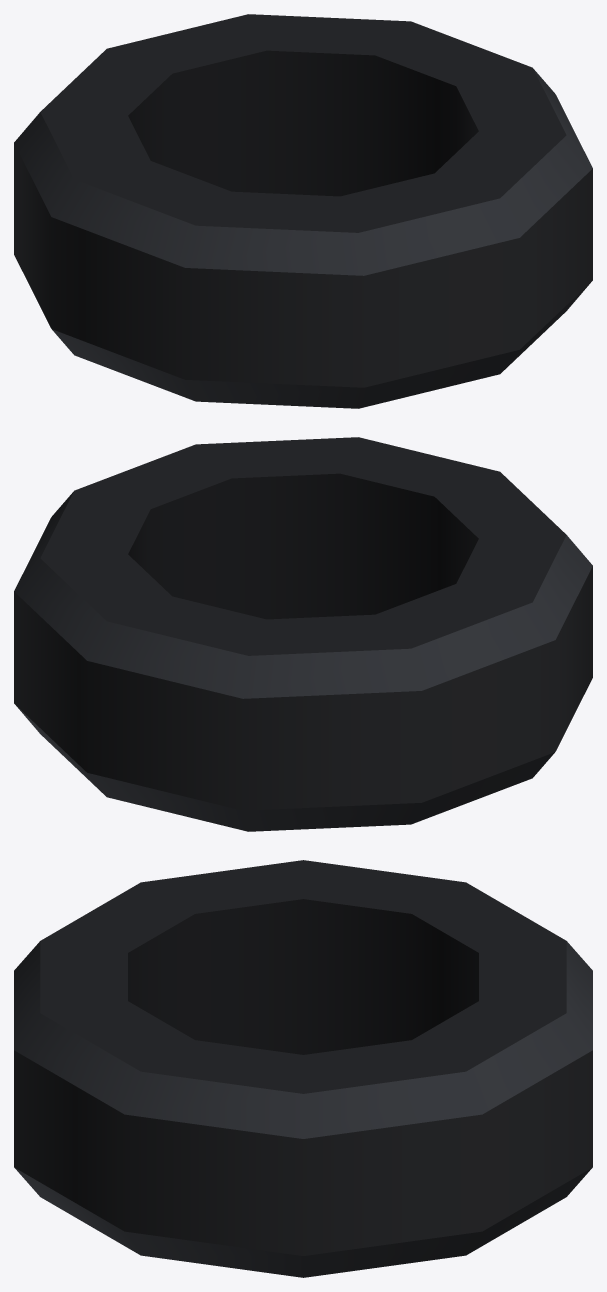
The model's file is prop_tire.glb.
3 views of the same model, one above another, from view 1: azimuth 30°, elevation 25°; view 2: azimuth 150°, elevation 25°; view 3: azimuth 270°, elevation 25° (orthographic). The views are drawn at different scales.
Visible parts, largest first — view 1: prop_tire__mesh; view 2: prop_tire__mesh; view 3: prop_tire__mesh.
Boxes of the visible parts, x1=… form: prop_tire__mesh: x1=14, y1=14, x2=592, y2=408; prop_tire__mesh: x1=14, y1=437, x2=592, y2=831; prop_tire__mesh: x1=14, y1=860, x2=592, y2=1277.
Size of the model in its own units: 0.66 by 0.22 by 0.6277.
1 material, 1 textured.
